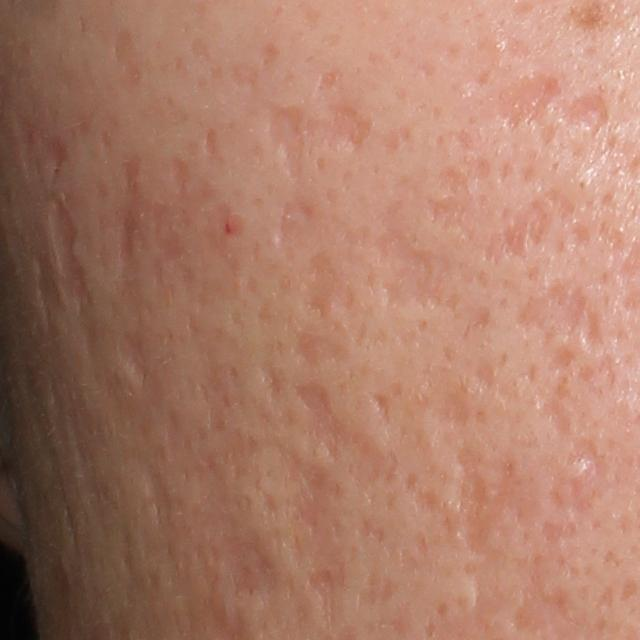atrophic_scar: (424, 162, 577, 264), (282, 447, 355, 637), (259, 68, 381, 180), (401, 445, 500, 569), (373, 201, 455, 316), (147, 150, 223, 266), (113, 326, 163, 441), (289, 383, 355, 463), (514, 275, 589, 343), (51, 196, 90, 310), (566, 435, 616, 513), (498, 74, 567, 127), (199, 361, 243, 437), (269, 194, 324, 253), (344, 431, 399, 489), (224, 532, 273, 597), (285, 322, 344, 371), (534, 375, 575, 444), (557, 91, 608, 138), (423, 384, 471, 432), (110, 28, 141, 96), (143, 462, 175, 517), (251, 352, 284, 402), (580, 307, 608, 353), (542, 345, 583, 369), (365, 388, 392, 424), (47, 136, 68, 180), (201, 126, 223, 165)
